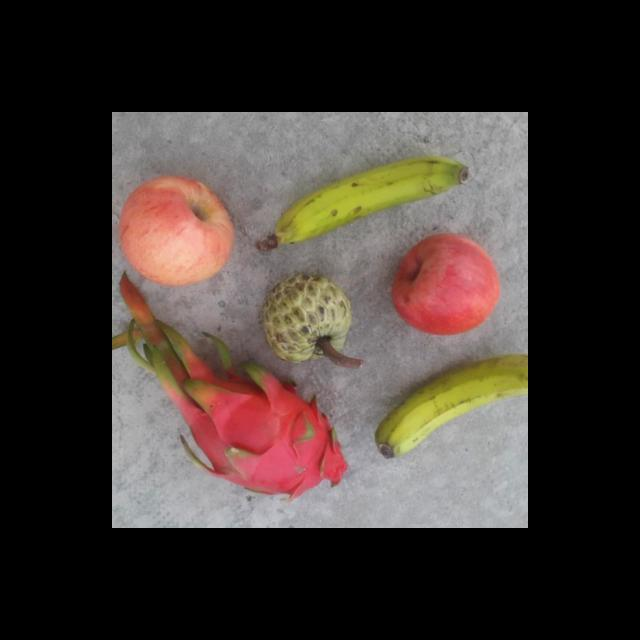Sakya fruit: (261, 271, 354, 363)
apple: (119, 170, 238, 288), (390, 233, 502, 337)
banana: (256, 146, 484, 253), (373, 352, 528, 461)
pitaya: (189, 370, 352, 500)
